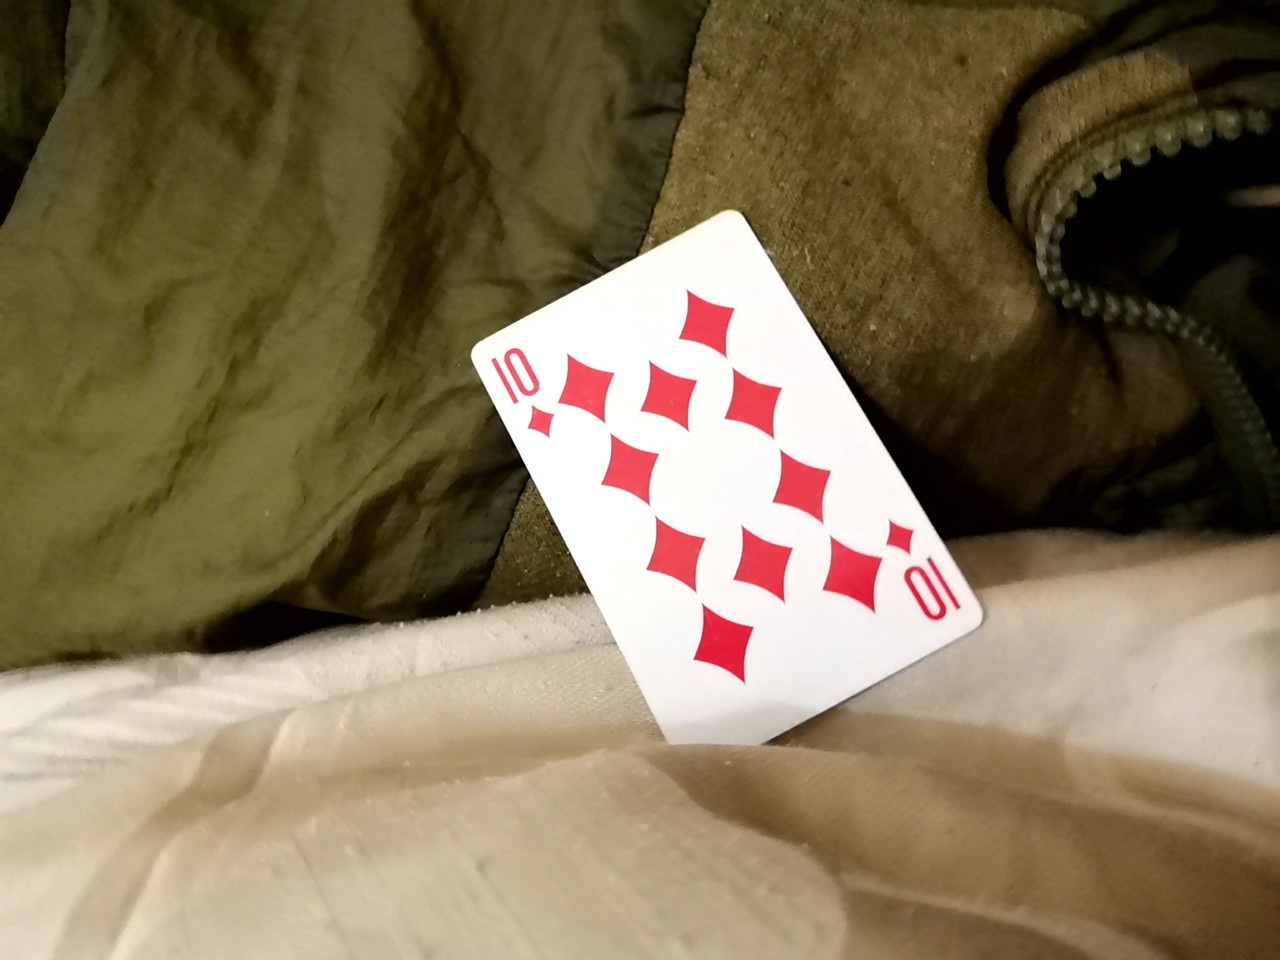fk 10: (500, 156, 1025, 679)
